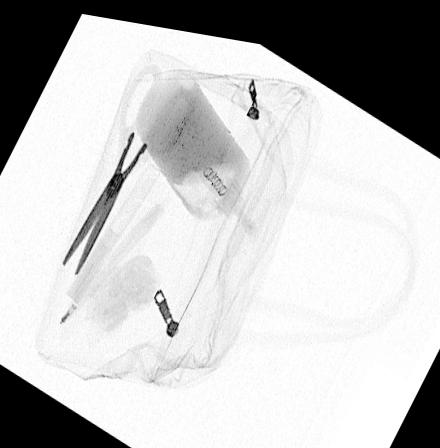Scissors: (57, 55, 203, 277)
